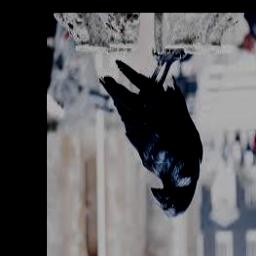Crow: (99, 49, 203, 219)
